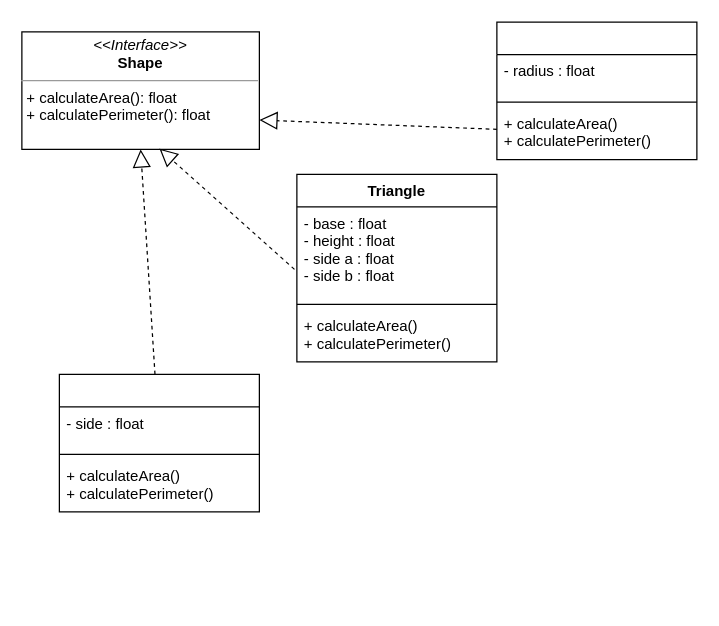
Some shapes in this 719 by 626 pixel diagram are drawn without their labels. Here are the shapes that lost their labels. From the top down, the box of each, then its label:
(496, 21, 697, 160): Circle
(58, 373, 259, 512): Square
